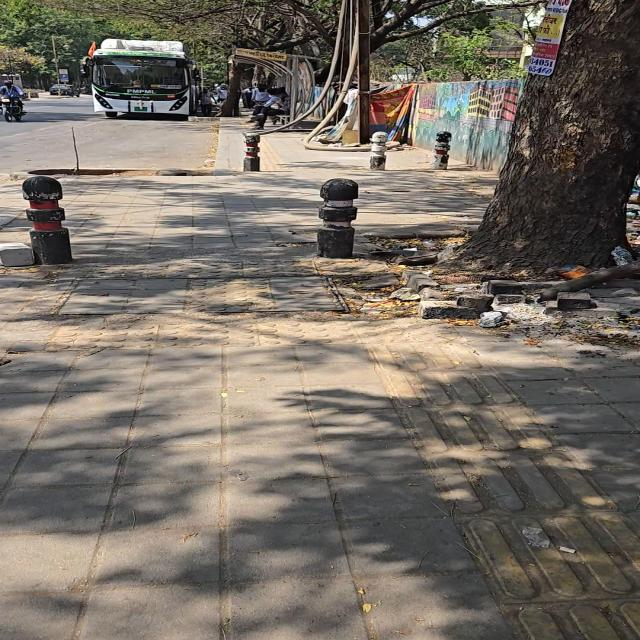obstacle: (452, 0, 639, 271), (453, 0, 639, 270), (454, 0, 639, 270), (456, 0, 639, 270), (92, 0, 341, 83), (0, 0, 234, 85), (92, 0, 341, 59), (96, 0, 317, 63), (95, 0, 316, 63), (371, 0, 541, 81), (371, 0, 539, 81), (371, 0, 539, 80), (96, 0, 339, 55), (98, 0, 338, 54), (92, 0, 318, 56), (372, 13, 529, 81), (0, 0, 127, 80), (155, 11, 248, 116), (166, 6, 253, 116), (139, 12, 247, 94), (371, 0, 539, 51), (112, 16, 235, 85), (371, 0, 538, 50), (372, 30, 524, 82), (439, 5, 543, 80), (230, 0, 337, 70), (133, 17, 235, 86), (218, 0, 337, 59), (197, 0, 318, 57), (229, 0, 332, 62), (92, 0, 242, 37), (0, 0, 79, 66), (227, 0, 324, 53), (427, 30, 523, 81), (250, 0, 340, 52), (0, 0, 53, 86), (217, 7, 310, 54), (23, 176, 72, 264), (0, 0, 50, 85), (491, 3, 545, 76), (371, 33, 442, 82), (430, 30, 495, 81), (92, 0, 209, 28), (318, 179, 358, 258), (223, 21, 302, 57), (371, 37, 433, 82), (494, 4, 544, 45), (92, 16, 164, 44), (219, 62, 254, 117), (357, 0, 370, 144), (190, 40, 228, 85), (219, 61, 249, 117), (0, 45, 43, 79), (370, 51, 416, 81), (220, 63, 245, 117), (438, 13, 501, 34), (220, 63, 244, 116), (194, 55, 228, 87), (0, 45, 38, 72), (516, 7, 541, 43), (422, 60, 463, 81), (370, 132, 388, 170), (434, 131, 452, 169), (244, 133, 260, 171), (52, 36, 61, 95), (251, 65, 270, 86)
